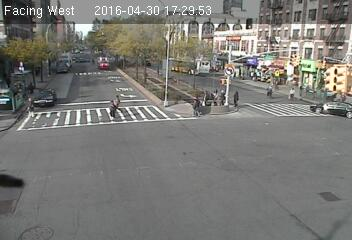neg: (263, 66, 274, 80), (29, 63, 39, 76), (211, 54, 220, 66), (16, 60, 25, 72), (248, 67, 255, 77)
pos: (20, 95, 38, 120), (187, 96, 203, 117), (103, 98, 118, 118), (229, 90, 244, 110), (286, 85, 301, 105), (207, 86, 222, 105), (263, 82, 277, 101), (217, 88, 229, 104), (110, 91, 121, 106)
